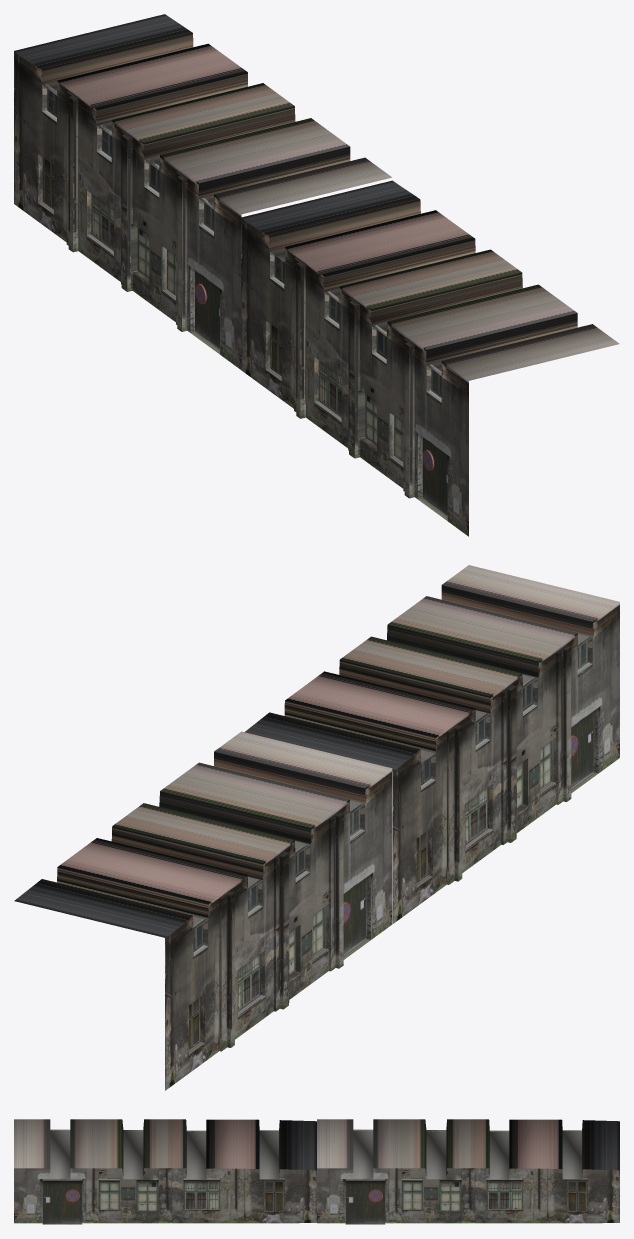
The model's file is EdificioPequeño2.fbx.
3 views of the same model, one above another, from view 1: azimuth 30°, elevation 25°; view 2: azimuth 150°, elevation 25°; view 3: azimuth 270°, elevation 25° (orthographic). The views are drawn at different scales.
Parts seen in each view (by area): view 1: Plane.002; view 2: Plane.002; view 3: Plane.002.
Boxes of the visible parts, box(x1,y1,x2,y2) form: Plane.002: box(14, 14, 619, 536); Plane.002: box(14, 565, 619, 1090); Plane.002: box(14, 1119, 619, 1224).
Size of the model in its own units: 24.66 by 23.49 by 124.
Materials: 2 (2 with a texture image).
